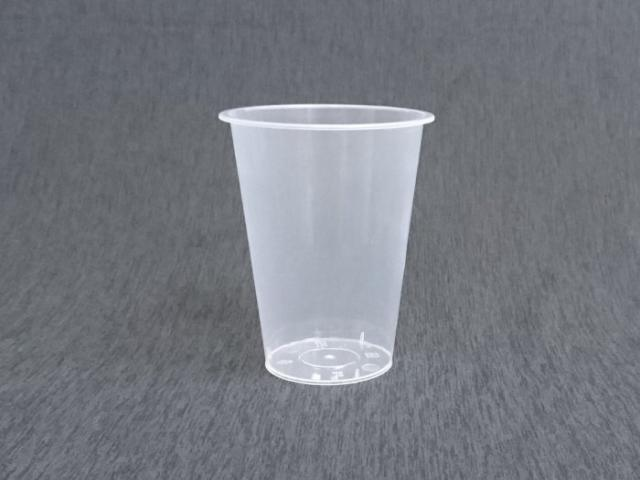cup: (219, 105, 434, 385)
